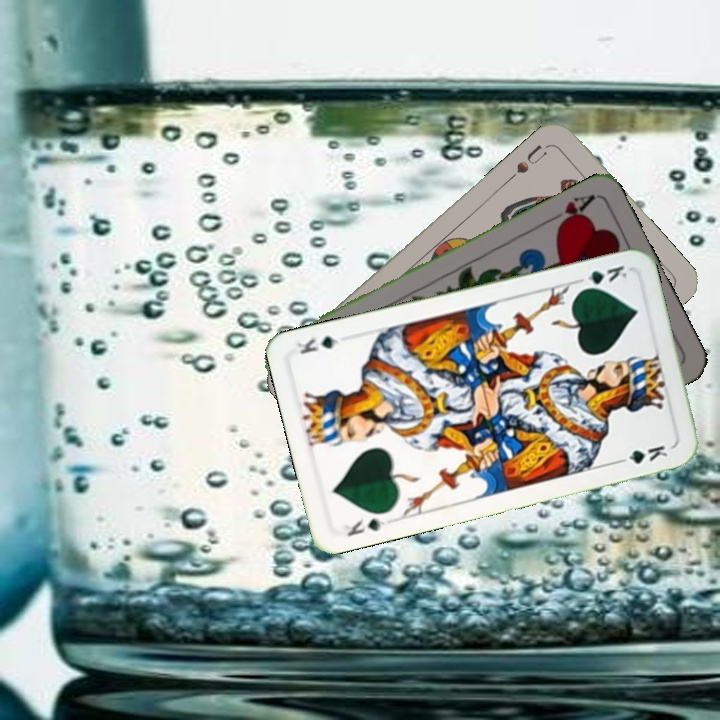GK: (575, 261, 630, 294), (339, 514, 388, 539)
HA: (543, 190, 597, 231)
SU: (503, 140, 552, 184)
